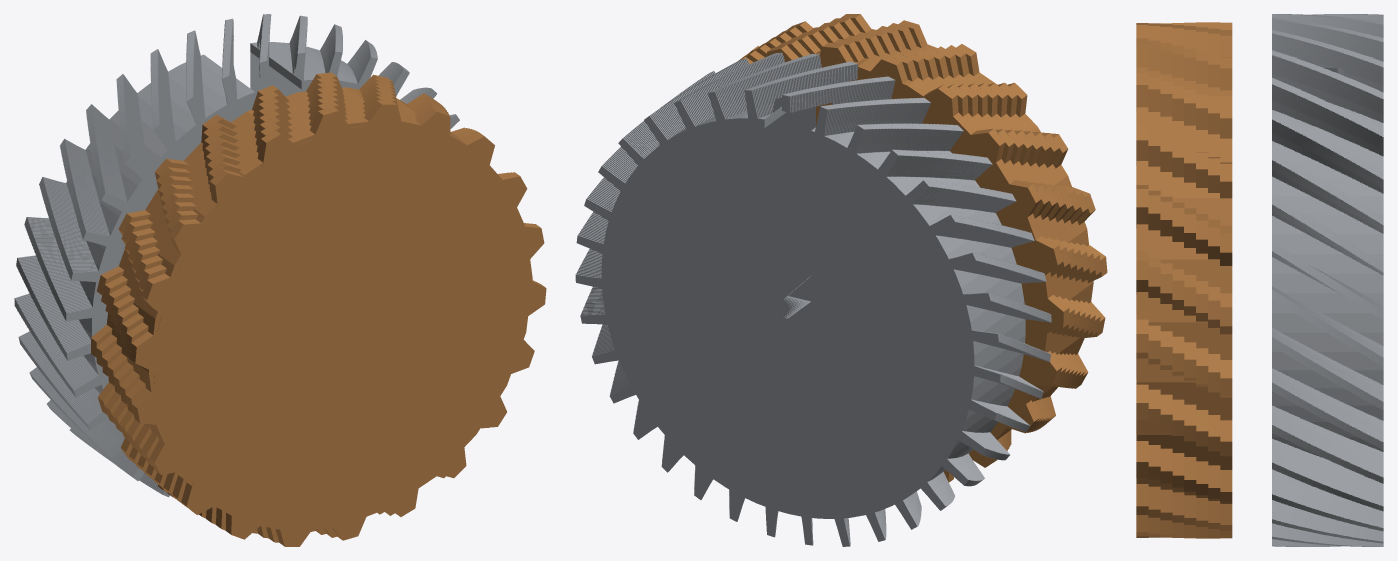
The model's file is crank-gears.glb.
The picture shows the model from 3 angles, left to right: view 1: azimuth 30°, elevation 25°; view 2: azimuth 150°, elevation 25°; view 3: azimuth 270°, elevation 25°; orthographic projection. The views are drawn at different scales.
Visible parts, largest first — view 1: crank-gears:bronze, crank-gears:steel; view 2: crank-gears:steel, crank-gears:bronze; view 3: crank-gears:steel, crank-gears:bronze.
Boxes of the visible parts, x1,y1,x2,y2 form: crank-gears:bronze: (91, 72, 546, 546); crank-gears:steel: (14, 14, 459, 497); crank-gears:steel: (575, 52, 1051, 546); crank-gears:bronze: (738, 14, 1107, 482); crank-gears:steel: (1272, 14, 1383, 546); crank-gears:bronze: (1136, 22, 1232, 538).
Size of the model in its own units: 66.89 by 66.89 by 31.04.
